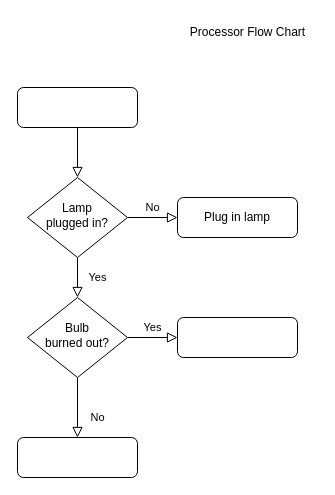
This 335x495 diagram has some shape labels left out. Each missing label, with the box of its shape:
Repair Lamp: (16, 436, 138, 478)
Replace Bulb: (176, 316, 298, 358)
